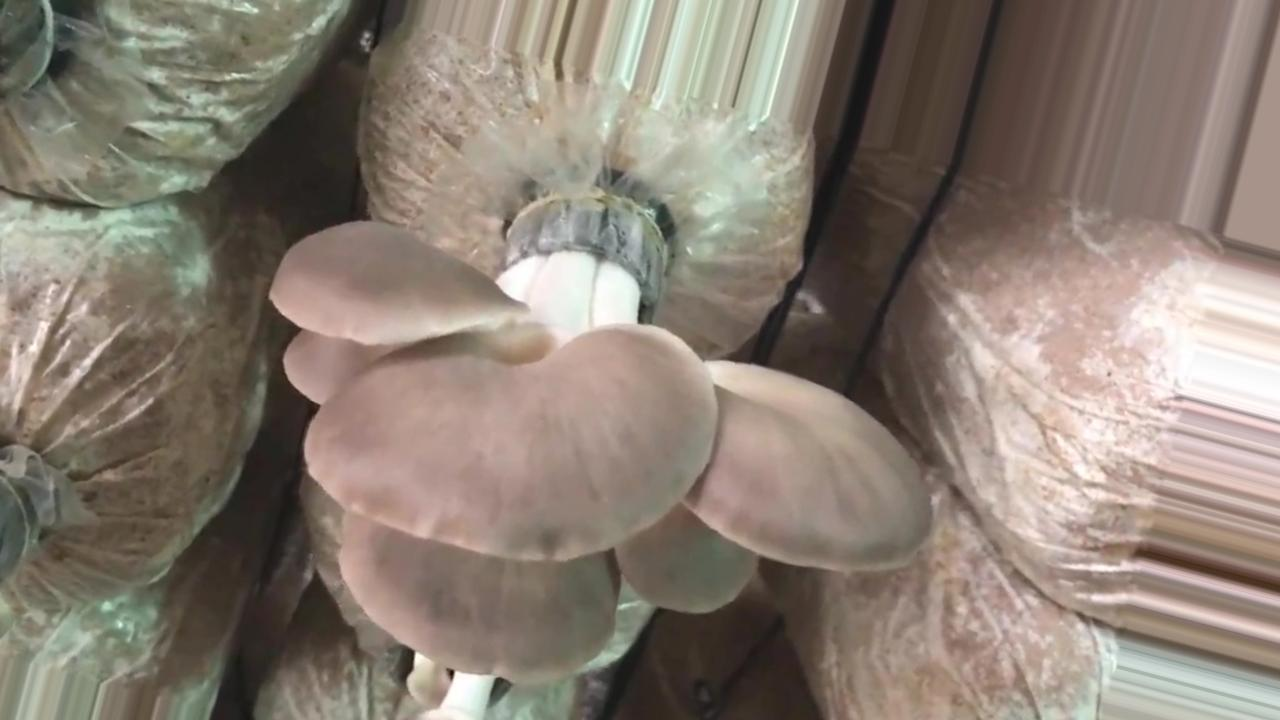nam: (264, 199, 928, 685)
